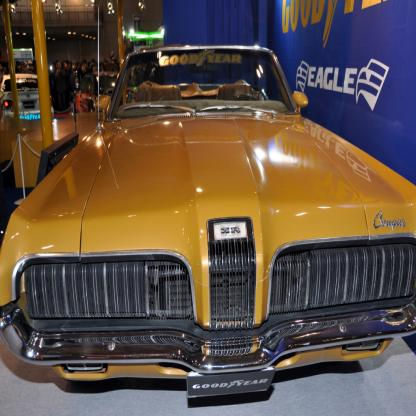Car: (1, 47, 416, 399)
